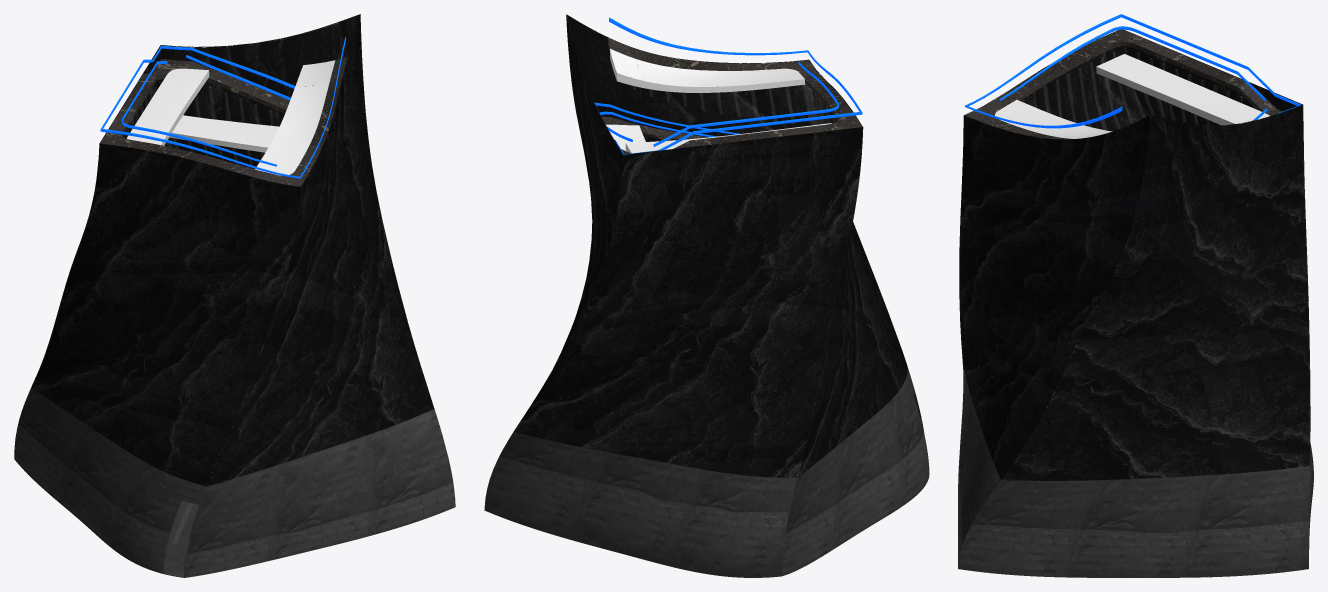
File: Poddio Dark Twisted Verticale 3D with colliders.glb
The picture shows the model from 3 angles, left to right: view 1: azimuth 30°, elevation 25°; view 2: azimuth 150°, elevation 25°; view 3: azimuth 270°, elevation 25°; orthographic projection. The views are drawn at different scales.
Parts seen in each view (by area): view 1: Marble Facade, Facade_Base, Slabs, Ramp\, Railings, Ground Floor, Columns; view 2: Marble Facade, Facade_Base, Slabs, Ramp\, Railings, Columns; view 3: Marble Facade, Facade_Base, Slabs, Ramp\, Railings, Columns.
Boxes of the visible parts, left/top/right/bottom form: Marble Facade: left=31, top=14, right=434, bottom=486; Facade_Base: left=14, top=387, right=455, bottom=577; Slabs: left=126, top=60, right=335, bottom=347; Ramp\: left=100, top=57, right=347, bottom=266; Railings: left=100, top=37, right=346, bottom=178; Ground Floor: left=14, top=459, right=455, bottom=577; Columns: left=127, top=82, right=273, bottom=543; Marble Facade: left=513, top=14, right=907, bottom=477; Facade_Base: left=484, top=367, right=929, bottom=577; Slabs: left=606, top=48, right=831, bottom=475; Ramp\: left=584, top=38, right=861, bottom=308; Railings: left=583, top=17, right=862, bottom=310; Columns: left=633, top=85, right=834, bottom=140; Marble Facade: left=959, top=29, right=1310, bottom=480; Facade_Base: left=958, top=358, right=1313, bottom=577; Slabs: left=995, top=54, right=1269, bottom=394; Ramp\: left=965, top=29, right=1282, bottom=387; Railings: left=965, top=14, right=1301, bottom=128; Columns: left=1022, top=47, right=1253, bottom=129.
Size of what is drawn, in the model's own units: 31.68 by 45.54 by 31.68.
8 materials, 4 textured.
